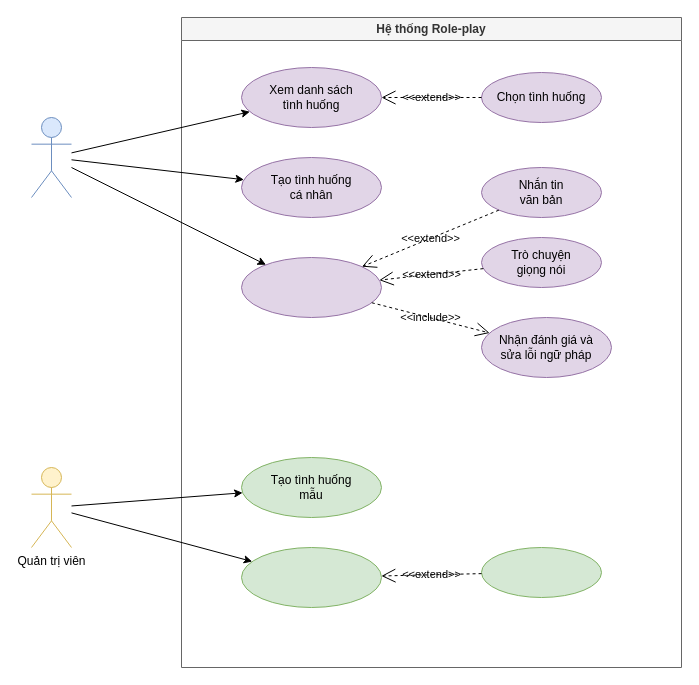
Some shapes in this 699 by 685 pixel diagram are drawn without their labels. The centre of each missing label's shape, as x and y in pixels:
"Người học" belongs at pixel 51 157.
"Quản lý tình huống mẫu" belongs at pixel 311 577.
"Sửa/Xóa tình huống" belongs at pixel 541 572.
"Thực hiện Role-play" belongs at pixel 311 287.
